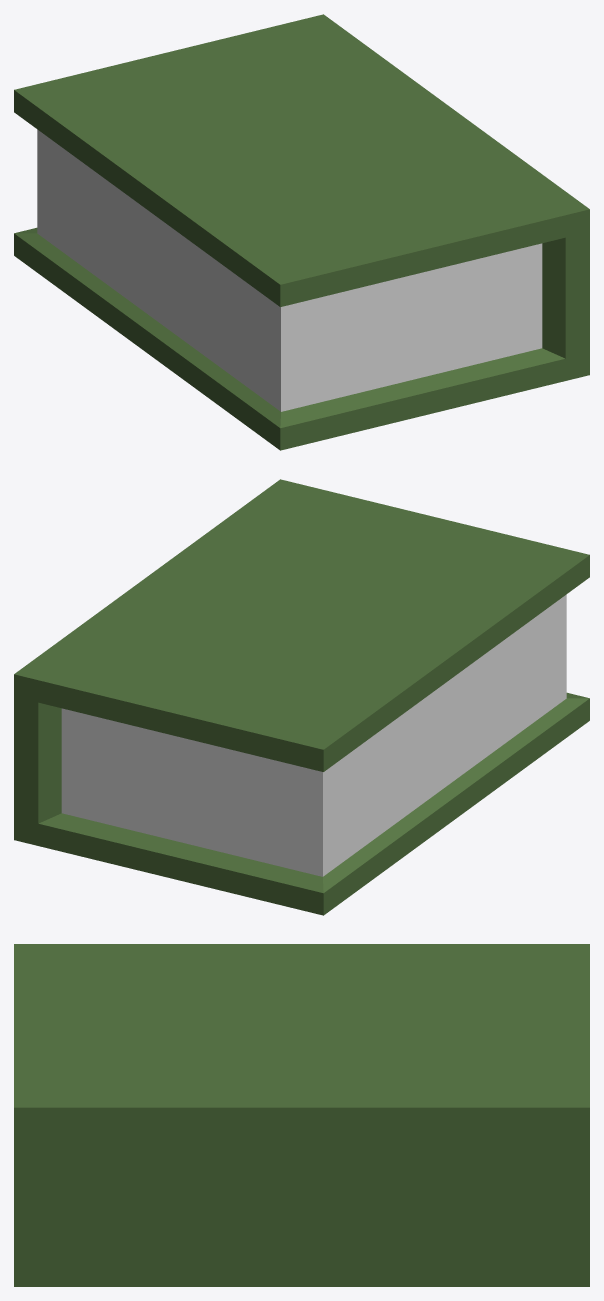
The model's file is Libros.040.fbx.
3 views of the same model, one above another, from view 1: azimuth 30°, elevation 25°; view 2: azimuth 150°, elevation 25°; view 3: azimuth 270°, elevation 25° (orthographic). The views are drawn at different scales.
Visible parts, largest first — view 1: Libros.040; view 2: Libros.040; view 3: Libros.040.
Boxes of the visible parts, x1,y1,x2,y2 form: Libros.040: [14, 14, 589, 450]; Libros.040: [14, 479, 589, 915]; Libros.040: [14, 944, 589, 1286].
Bounding box in the file's own units: 29.46 × 15.08 × 43.9.
